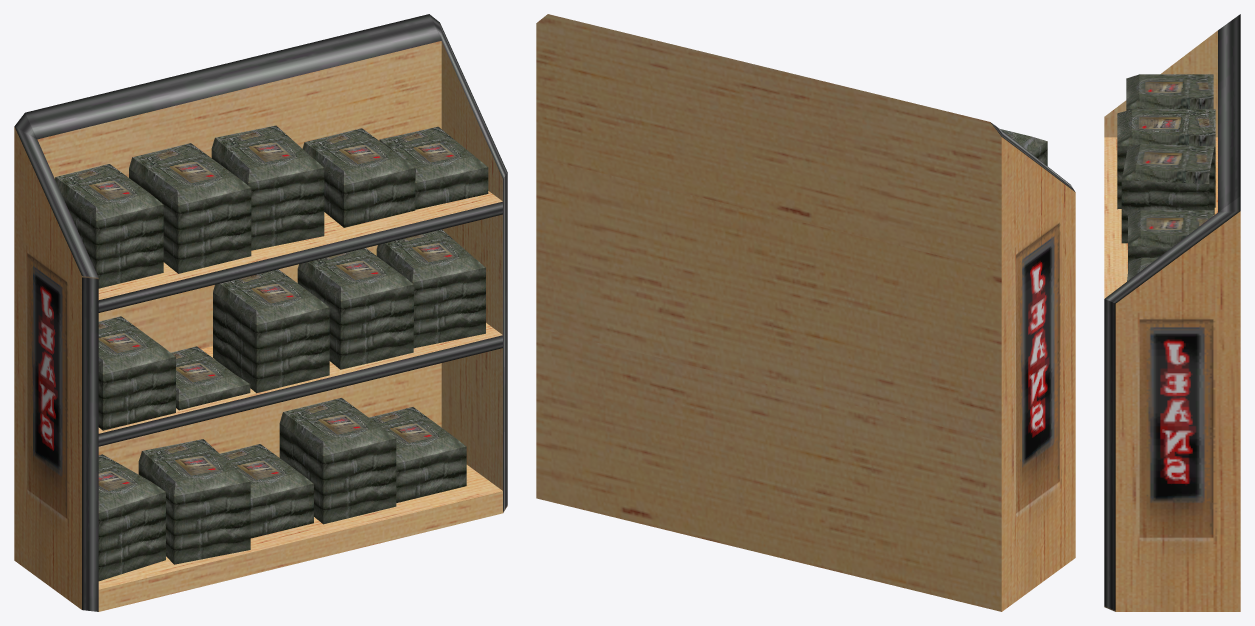
Rendered from jeanshelves3.fbx.
3 renders of one model, left to right at view 1: azimuth 30°, elevation 25°; view 2: azimuth 150°, elevation 25°; view 3: azimuth 270°, elevation 25°, orthographic. The views are drawn at different scales.
Parts seen in each view (by area): view 1: mesh_0; view 2: mesh_0; view 3: mesh_0.
Boxes of the visible parts, x1=… form: mesh_0: x1=14, y1=14, x2=507, y2=611; mesh_0: x1=536, y1=14, x2=1075, y2=611; mesh_0: x1=1104, y1=14, x2=1240, y2=611.
Bounding box in the file's own units: 160 × 160 × 47.89.
Materials: 1 (1 with a texture image).
